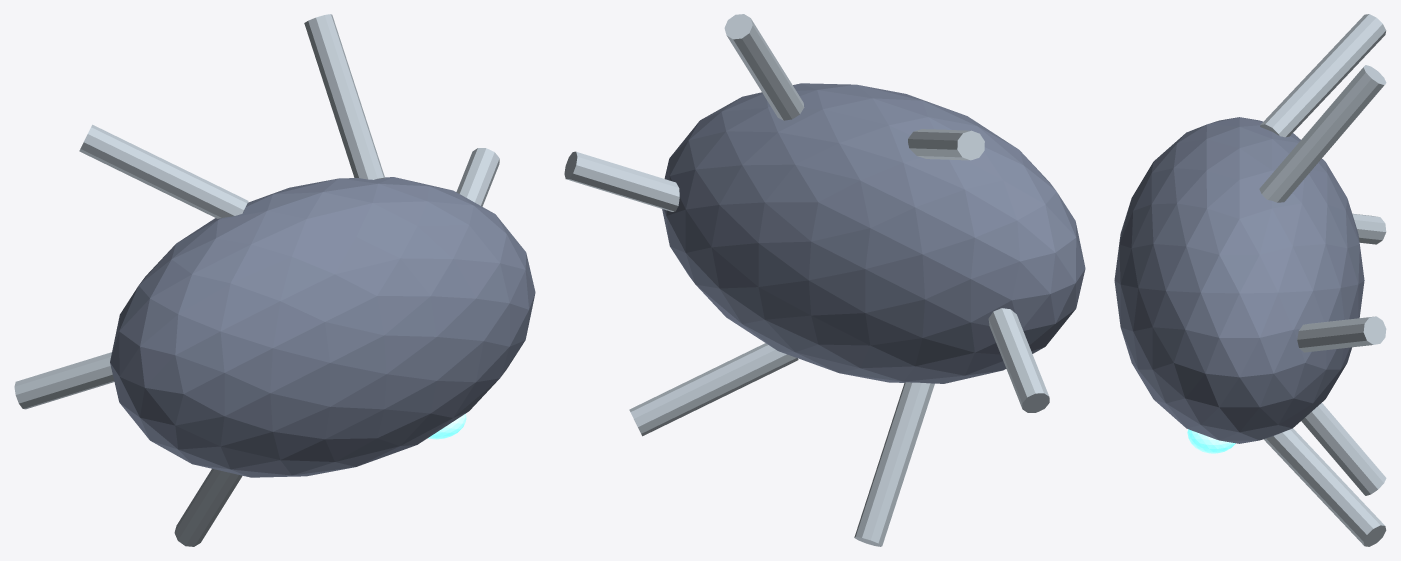
The model's file is 16_Cloud_Creature_Ray_Form.glb.
3 renders of one model, left to right at view 1: azimuth 30°, elevation 25°; view 2: azimuth 150°, elevation 25°; view 3: azimuth 270°, elevation 25°, orthographic. The views are drawn at different scales.
Parts seen in each view (by area): view 1: 16_Cloud_Creature_Ray_Form_00, 16_Cloud_Creature_Ray_Form_03, 16_Cloud_Creature_Ray_Form_02, 16_Cloud_Creature_Ray_Form_04, 16_Cloud_Creature_Ray_Form_05, 16_Cloud_Creature_Ray_Form_01; view 2: 16_Cloud_Creature_Ray_Form_00, 16_Cloud_Creature_Ray_Form_05, 16_Cloud_Creature_Ray_Form_06, 16_Cloud_Creature_Ray_Form_01, 16_Cloud_Creature_Ray_Form_02, 16_Cloud_Creature_Ray_Form_04, 16_Cloud_Creature_Ray_Form_03; view 3: 16_Cloud_Creature_Ray_Form_00, 16_Cloud_Creature_Ray_Form_02, 16_Cloud_Creature_Ray_Form_03, 16_Cloud_Creature_Ray_Form_06, 16_Cloud_Creature_Ray_Form_05, 16_Cloud_Creature_Ray_Form_01, 16_Cloud_Creature_Ray_Form_04, 16_Cloud_Creature_Ray_Form_07.
Part boxes in pixels (bbox=[...]): 16_Cloud_Creature_Ray_Form_00: bbox=[110, 177, 535, 477]; 16_Cloud_Creature_Ray_Form_03: bbox=[79, 124, 248, 218]; 16_Cloud_Creature_Ray_Form_02: bbox=[304, 14, 384, 179]; 16_Cloud_Creature_Ray_Form_04: bbox=[14, 352, 114, 409]; 16_Cloud_Creature_Ray_Form_05: bbox=[174, 469, 242, 546]; 16_Cloud_Creature_Ray_Form_01: bbox=[456, 148, 499, 206]; 16_Cloud_Creature_Ray_Form_00: bbox=[662, 83, 1085, 383]; 16_Cloud_Creature_Ray_Form_05: bbox=[854, 382, 934, 546]; 16_Cloud_Creature_Ray_Form_06: bbox=[629, 343, 798, 436]; 16_Cloud_Creature_Ray_Form_01: bbox=[564, 151, 679, 211]; 16_Cloud_Creature_Ray_Form_02: bbox=[724, 14, 804, 120]; 16_Cloud_Creature_Ray_Form_04: bbox=[988, 308, 1049, 412]; 16_Cloud_Creature_Ray_Form_03: bbox=[908, 129, 984, 160]; 16_Cloud_Creature_Ray_Form_00: bbox=[1114, 117, 1364, 443]; 16_Cloud_Creature_Ray_Form_02: bbox=[1259, 65, 1386, 202]; 16_Cloud_Creature_Ray_Form_03: bbox=[1260, 14, 1386, 137]; 16_Cloud_Creature_Ray_Form_06: bbox=[1264, 428, 1386, 546]; 16_Cloud_Creature_Ray_Form_05: bbox=[1301, 403, 1386, 495]; 16_Cloud_Creature_Ray_Form_01: bbox=[1297, 316, 1386, 352]; 16_Cloud_Creature_Ray_Form_04: bbox=[1352, 213, 1386, 244]; 16_Cloud_Creature_Ray_Form_07: bbox=[1187, 429, 1235, 453].
Size of the model in its own units: 5.24 by 5.18 by 2.61.
